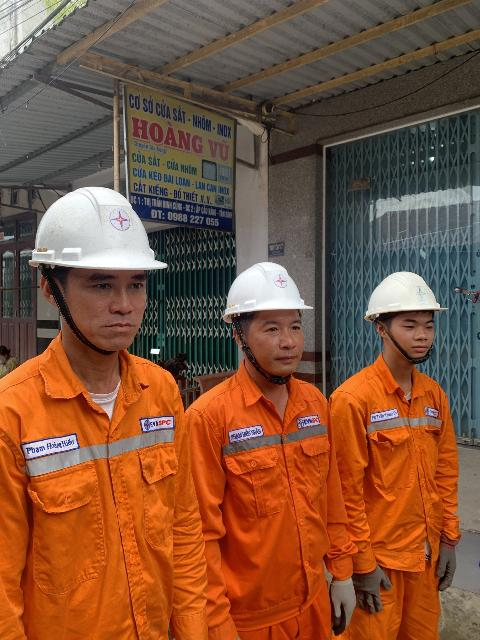helmet: (43, 183, 173, 282), (213, 262, 310, 329), (353, 274, 448, 321)
